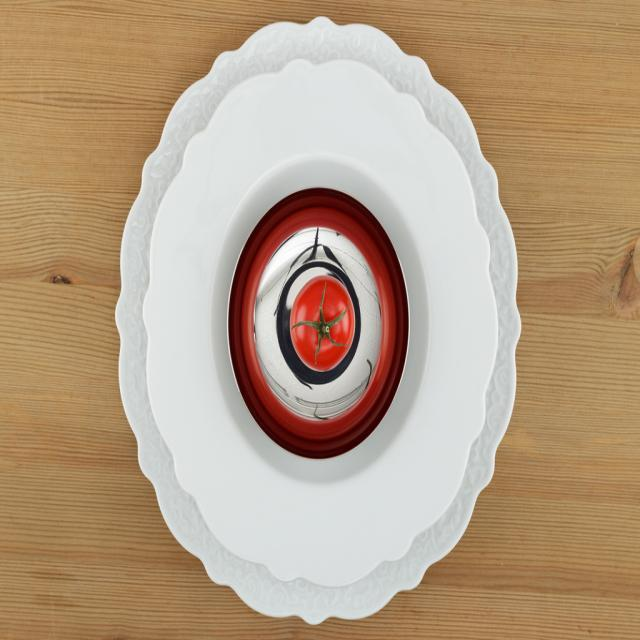ceramic plate: (125, 22, 513, 630)
